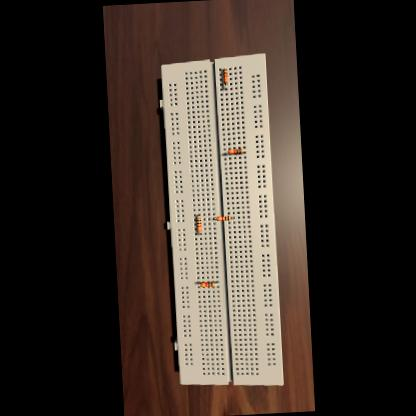breadboard: (156, 53, 282, 390)
resistor: (222, 68, 228, 84), (228, 148, 242, 154), (200, 281, 214, 287), (216, 216, 230, 221), (196, 218, 200, 232)
wire: (214, 281, 217, 284), (242, 150, 244, 154), (224, 152, 228, 154), (225, 84, 226, 90), (230, 216, 233, 218), (198, 214, 200, 217), (197, 281, 199, 284), (214, 217, 216, 218), (199, 232, 200, 233)
